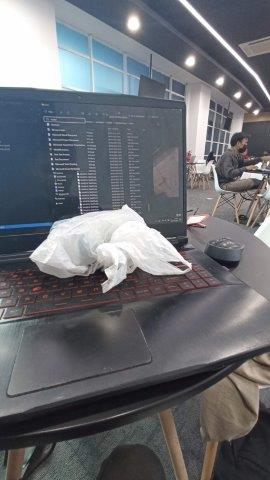plastik: (30, 206, 191, 292)
